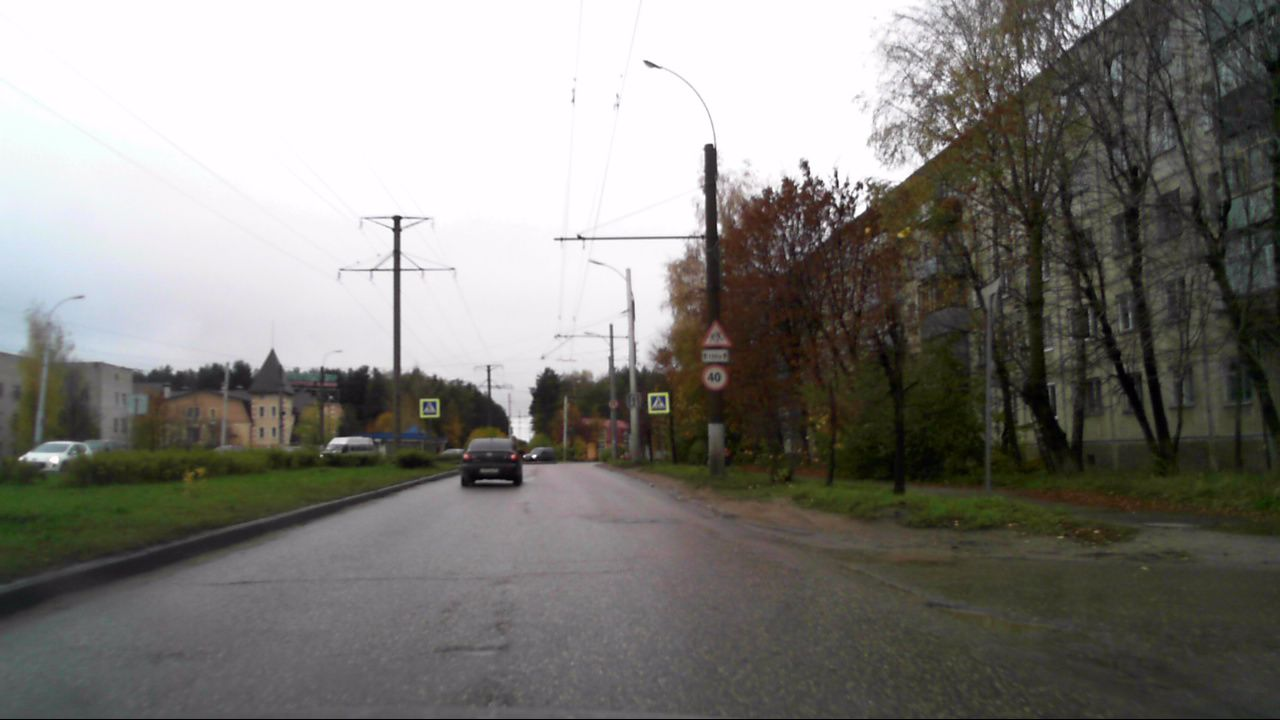speed_warning_40: (701, 364, 728, 390)
